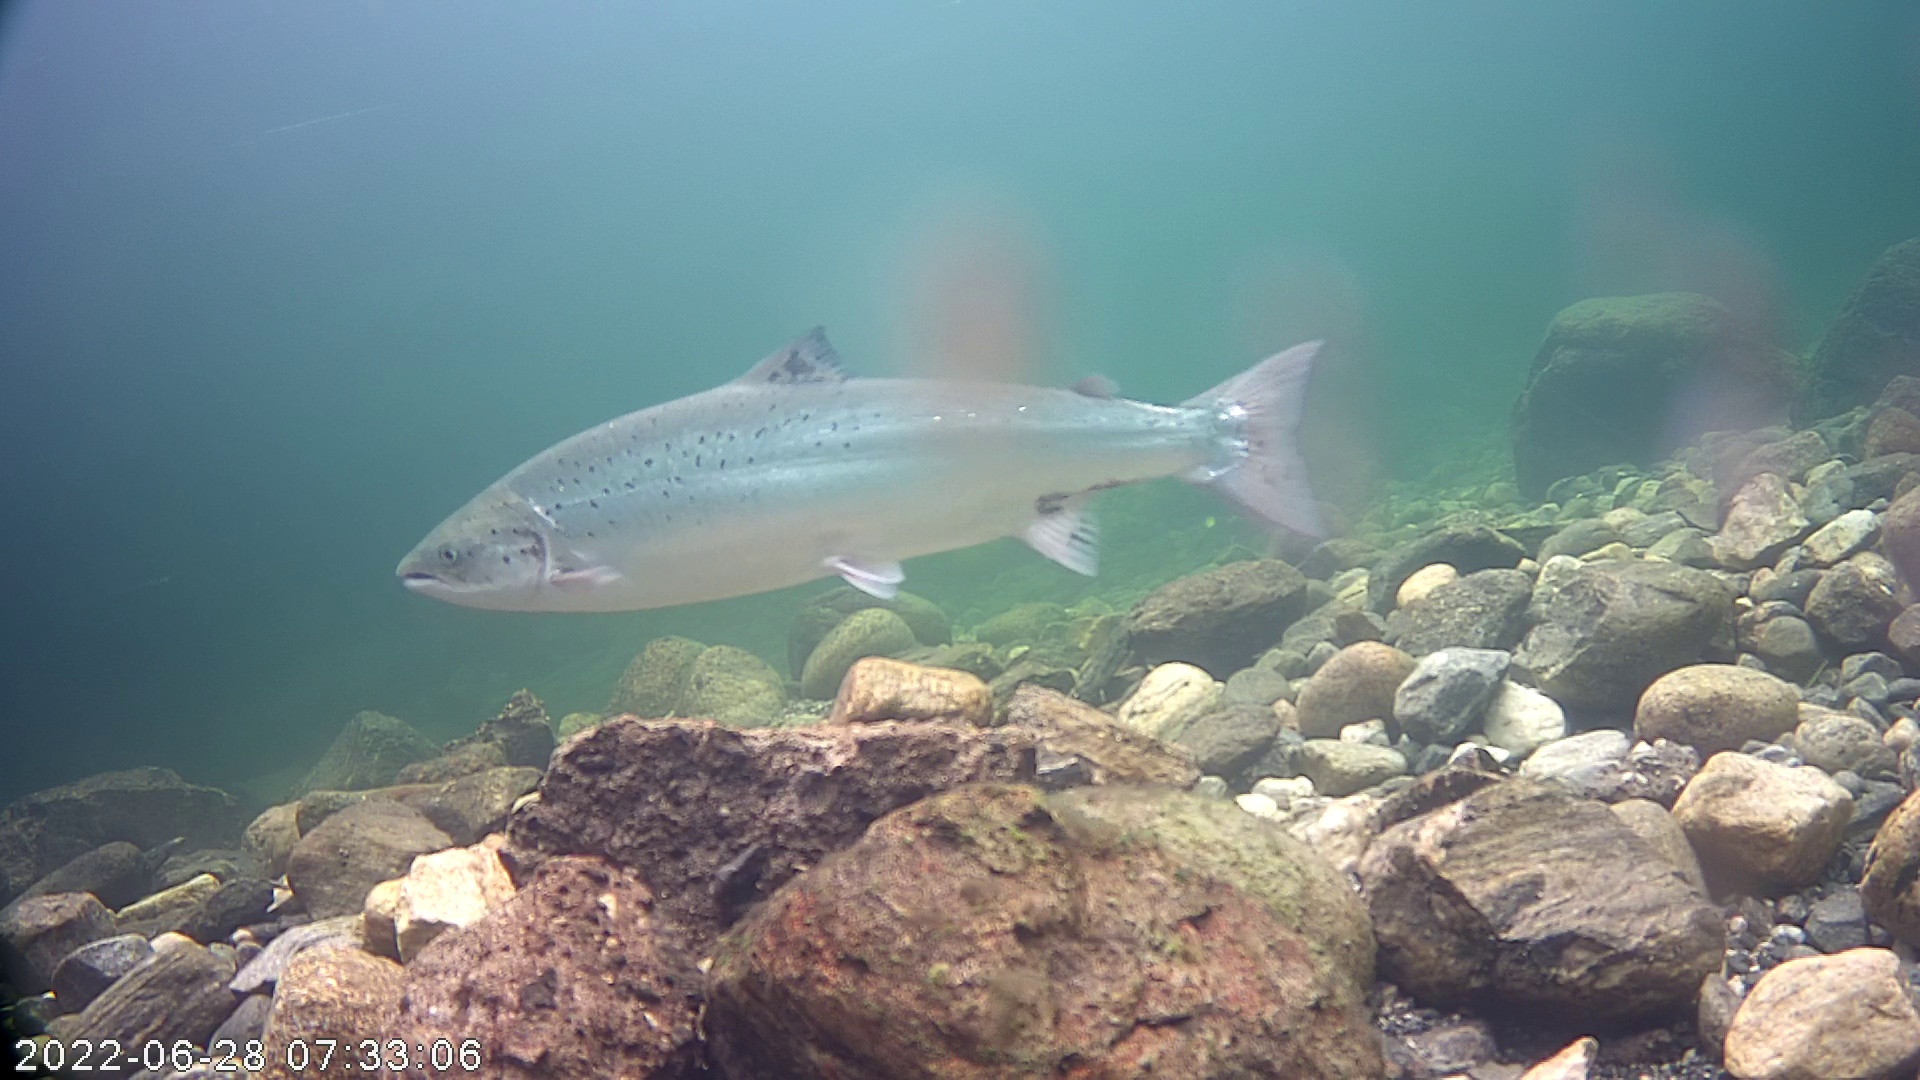salmon: (393, 240, 1374, 634)
